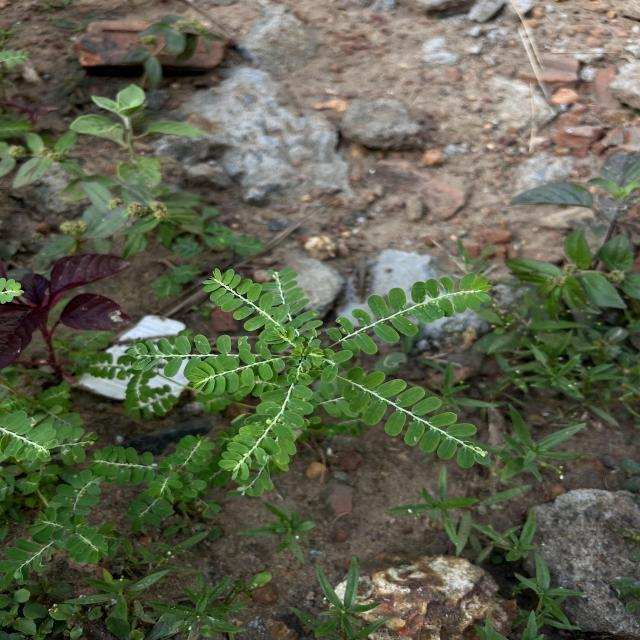Phyllanthus niruri: (333, 364, 494, 470), (324, 270, 501, 356), (215, 381, 317, 484), (194, 266, 288, 333), (178, 347, 288, 398), (123, 333, 256, 373)
